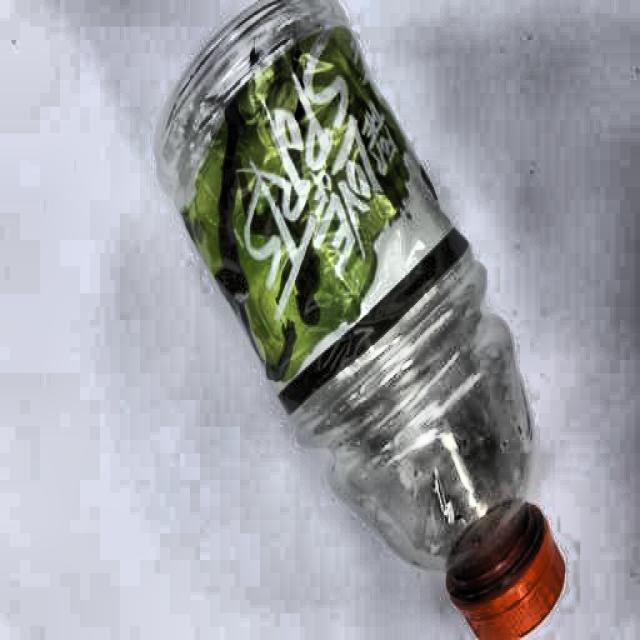plastic: (153, 1, 568, 640)
